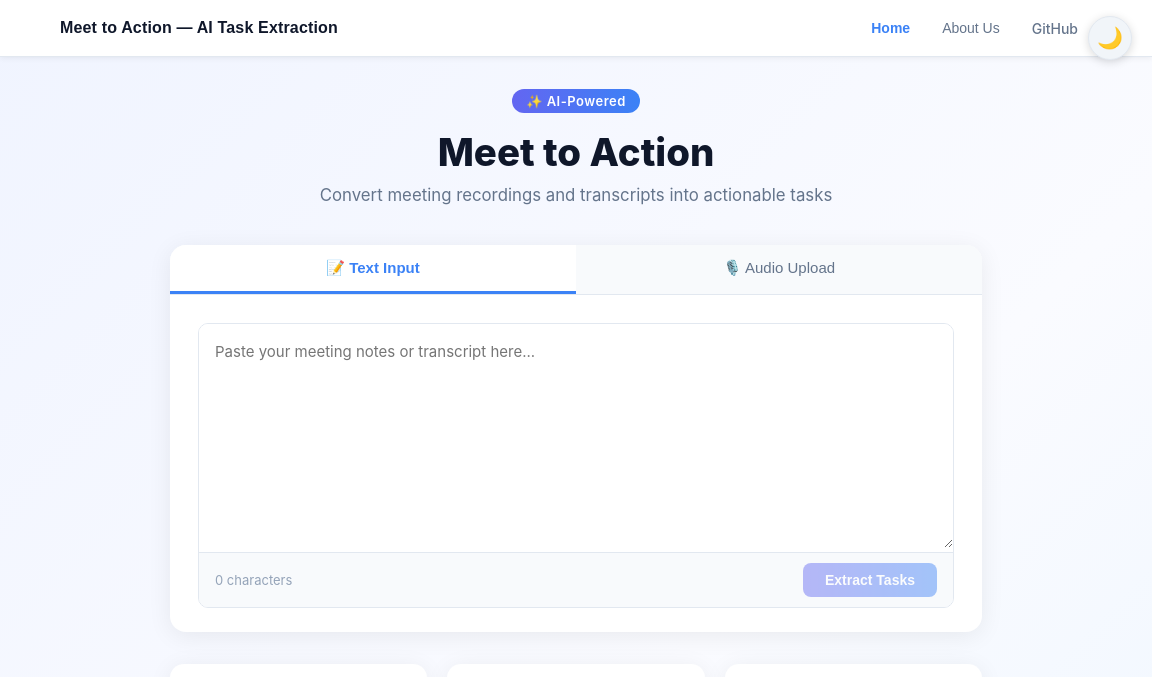
Test case: shows export dropdown options after extracting tasks
Type "Alice will prepare the report by Friday." into the text box named "Meeting text input" at (576, 436), box [199,324,953,548]
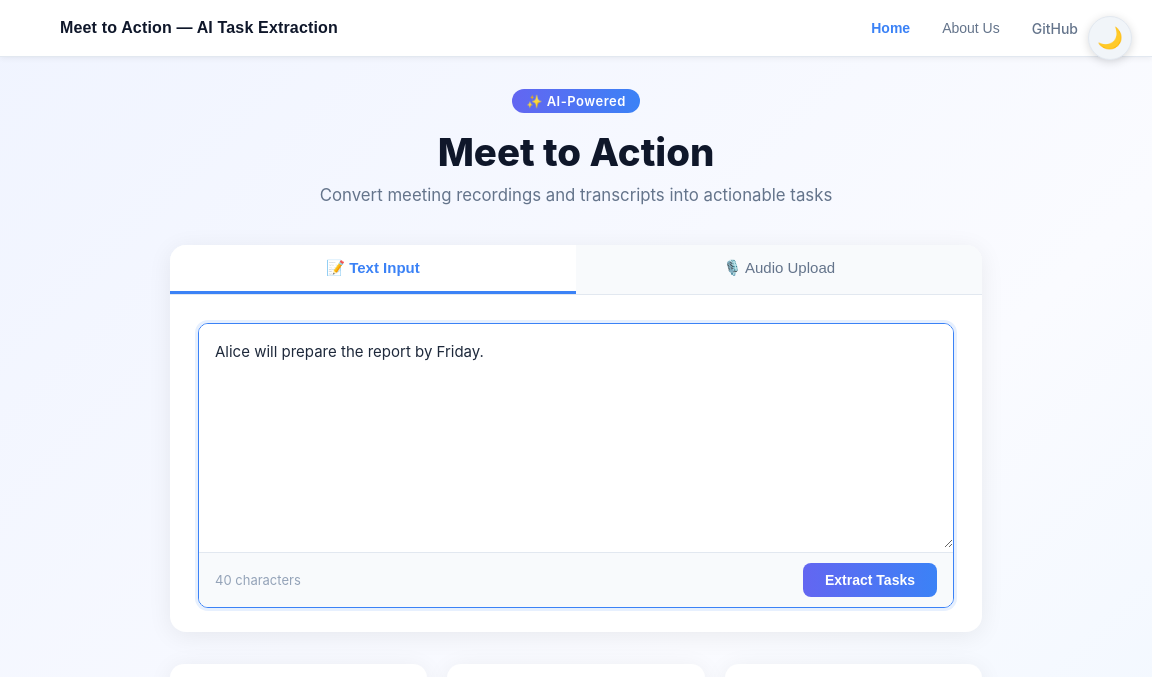
Click the button "Extract Tasks" at (870, 580), box [803,563,937,597]
(page scrolled)
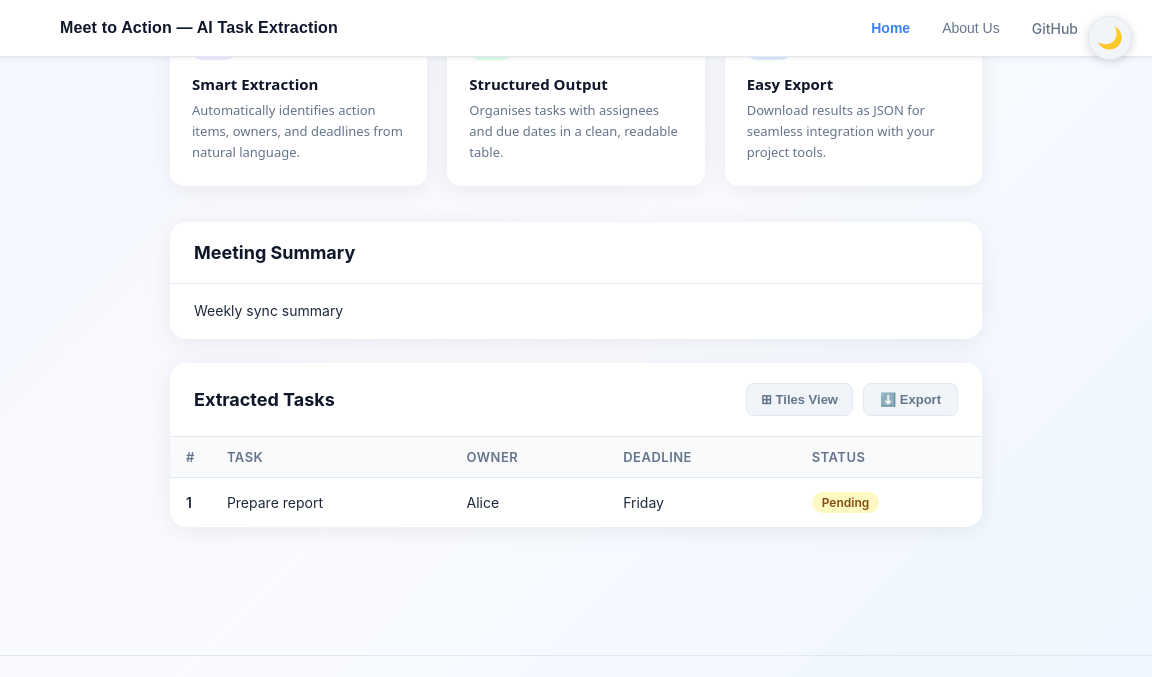
Click the button "⬇️ Export" at (910, 399), box [863,383,958,416]
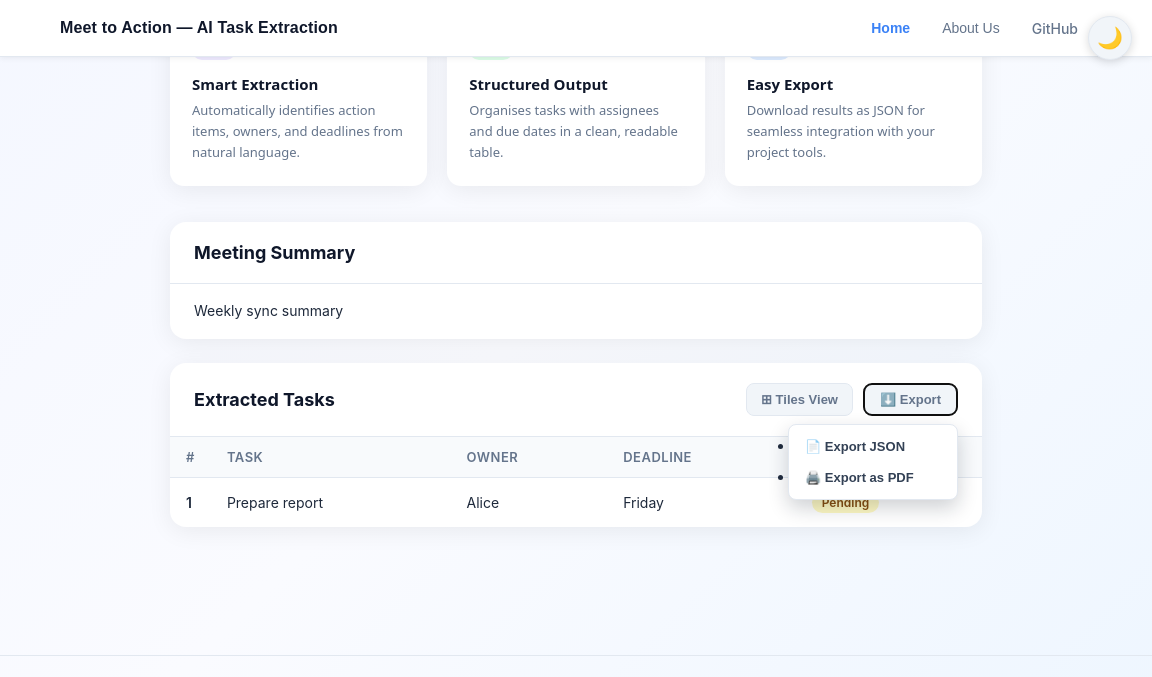
Expected: the menu item "📄 Export JSON" is shown, [795,431,951,462]
Expected: the menu item "🖨️ Export as PDF" is shown, [795,462,951,493]
